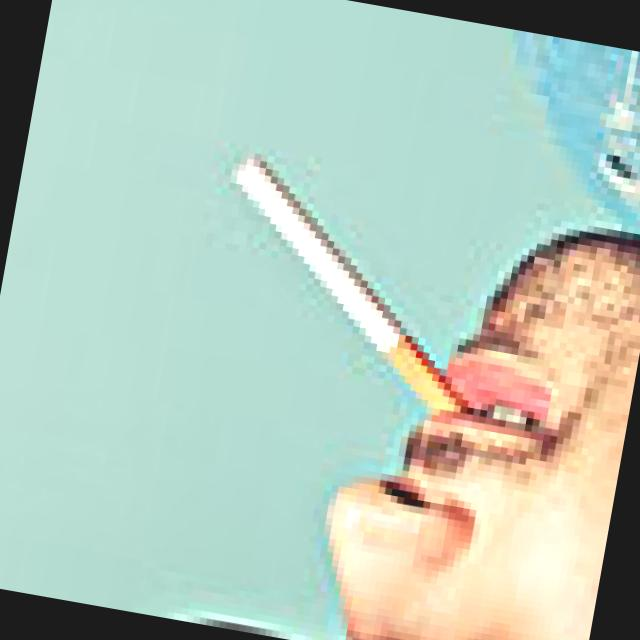cigarette: (173, 136, 523, 453)
